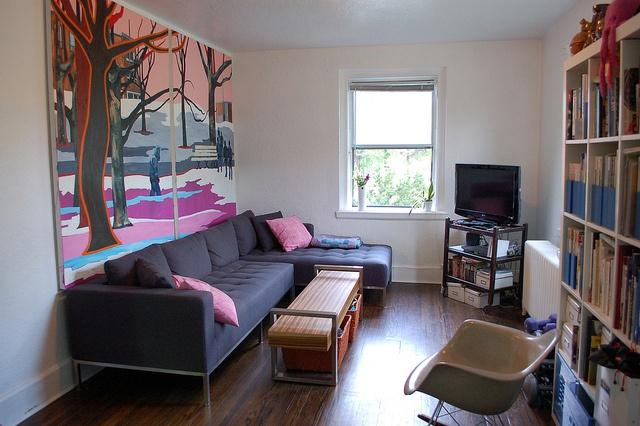AIO PC-Monitor-TV: (454, 162, 520, 225)
Rak: (549, 10, 639, 425), (440, 218, 493, 309)
